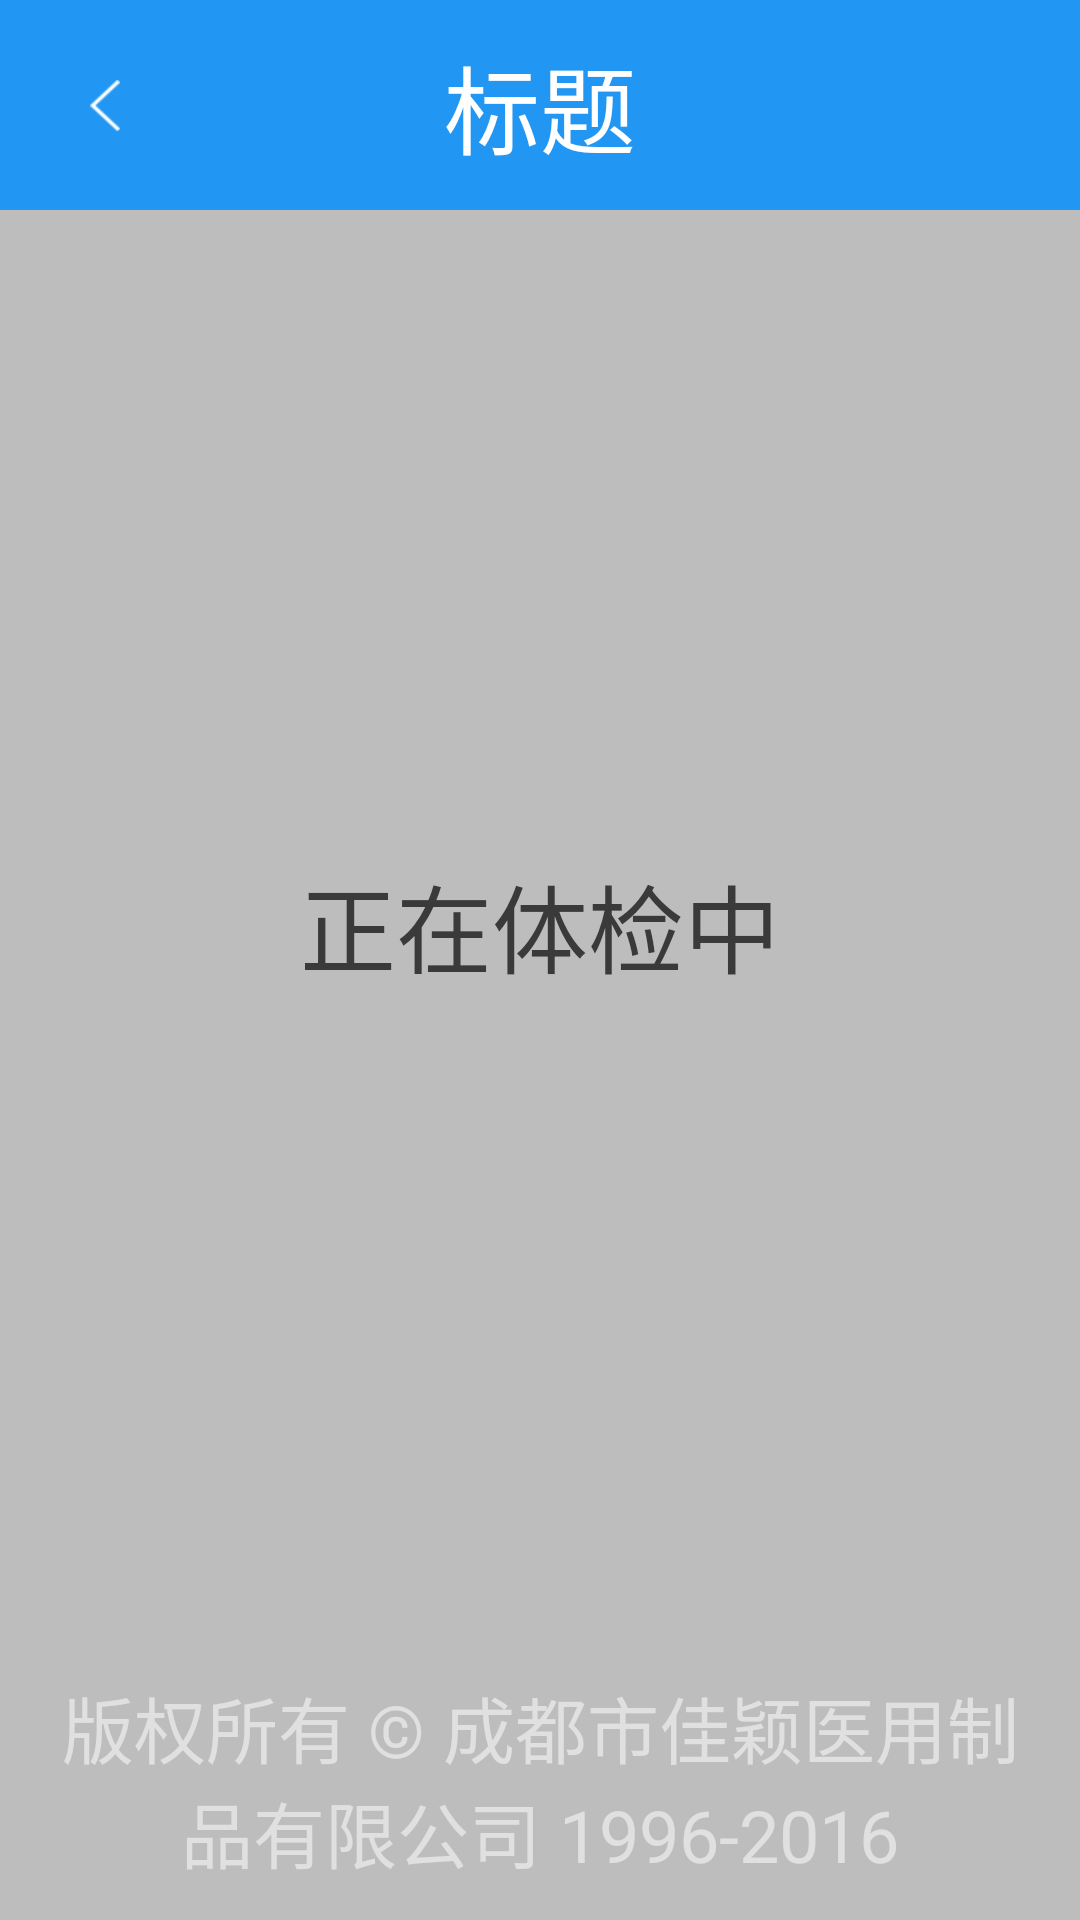

Icons on this 1080*1920 Android screen, each with the point to tap as (x=x, y=y):
jiantou press: (x=105, y=105)
